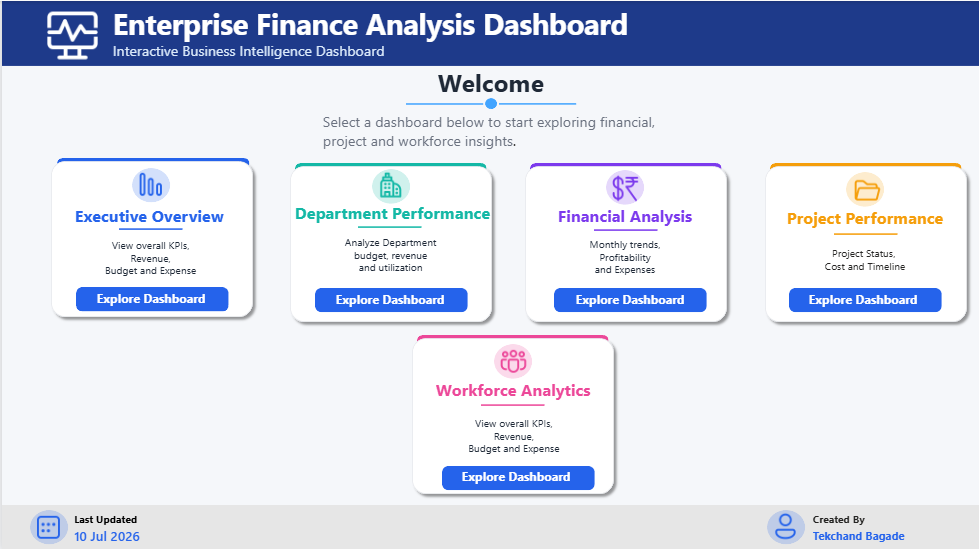

Layout of this report page (visuals, bound fields, positions):
{"tool":"powerbi","page":{"name":"MAIN PAGE","canvas":[1280,720],"ordinal":0},"visuals":[{"type":"textbox","box":[140.7,46.7,491.1,36.7],"z":0,"group":"g1"},{"type":"shape","box":[528.2,123.8,101.4,20.9],"z":0,"group":"g2"},{"type":"shape","box":[72.1,206.3,252.1,14.7],"z":0,"group":"g7"},{"type":"shape","box":[383.2,213.1,251,14.4],"z":0,"group":"g6"},{"type":"shape","box":[691.3,213.1,251,14.4],"z":0,"group":"g5"},{"type":"shape","box":[1005.1,213.1,251,14.4],"z":0,"group":"g4"},{"type":"shape","box":[544.4,437.1,251,14.4],"z":0,"group":"g3"},{"type":"shape","box":[0,660,1280,60],"z":0},{"type":"textbox","box":[1056.2,663.8,93.8,31.2],"z":0,"group":"g8"},{"type":"shape","box":[0,0,1280.2,85],"z":1000},{"type":"textbox","box":[140.7,0,834.4,70],"z":1000,"group":"g1"},{"type":"shape","box":[631.4,127,15.9,14.5],"z":1000,"group":"g2"},{"type":"shape","box":[368.8,208.7,280,220],"z":1000,"group":"g6"},{"type":"shape","box":[676.9,208.7,280,220],"z":1000,"group":"g5"},{"type":"shape","box":[990.6,208.7,280,220],"z":1000,"group":"g4"},{"type":"shape","box":[529.4,432.7,280,220],"z":1000,"group":"g3"},{"type":"textbox","box":[1056.2,685,131.2,31.2],"z":1000,"group":"g8"},{"type":"textbox","box":[0,0,758.3,56.7],"z":2000},{"type":"shape","box":[649.6,124,101.3,20.7],"z":2000,"group":"g2"},{"type":"shape","box":[56.7,201.7,280,220],"z":2000,"group":"g7"},{"type":"image","box":[476.7,222.3,64.4,40],"z":2000,"group":"g6"},{"type":"image","box":[784.4,225.6,64.4,40],"z":2000,"group":"g5"},{"type":"image","box":[1100,227.8,64.4,40],"z":2000,"group":"g4"},{"type":"image","box":[637.8,451.1,64.4,40],"z":2000,"group":"g3"},{"type":"textbox","box":[565,78.3,150,58.3],"z":3000},{"type":"shape","box":[1105,224.3,50,45.6],"z":3000,"group":"g4"},{"type":"textbox","box":[377.8,258.9,270,44.4],"z":3000,"group":"g6"},{"type":"textbox","box":[723.3,262.3,186.7,42.2],"z":3000,"group":"g5"},{"type":"textbox","box":[563.2,488.4,213.3,41.7],"z":3000,"group":"g3"},{"type":"textbox","box":[415,140,448.3,63.3],"z":4000},{"type":"image","box":[163.4,220,63,40],"z":4000,"group":"g7"},{"type":"shape","box":[483.4,220,50,45.6],"z":4000,"group":"g6"},{"type":"shape","box":[791.1,222.3,50,45.6],"z":4000,"group":"g5"},{"type":"textbox","box":[1021.7,265.6,216.7,42.2],"z":4000,"group":"g4"},{"type":"shape","box":[644.4,448.9,50,45.6],"z":4000,"group":"g3"},{"type":"group","id":"g1","title":"Group 1","box":[140.7,0,834.4,83.3],"z":5000},{"type":"shape","box":[465.6,290,83.3,13.3],"z":5000,"group":"g6"},{"type":"shape","box":[774.4,293.4,83.3,13.3],"z":5000,"group":"g5"},{"type":"shape","box":[1088.4,298.9,83.3,13.3],"z":5000,"group":"g4"},{"type":"shape","box":[627.8,522.3,83.3,13.3],"z":5000,"group":"g3"},{"type":"group","id":"g2","title":"Group 2","box":[528.2,123.8,222.7,20.9],"z":6000},{"type":"textbox","box":[91.1,262.3,206.7,42.2],"z":6000,"group":"g7"},{"type":"textbox","box":[440,302.3,137.8,63.3],"z":6000,"group":"g6"},{"type":"textbox","box":[746.7,304.5,138.9,63.3],"z":6000,"group":"g5"},{"type":"shape","box":[1030,376.7,200,31.7],"z":6000,"group":"g4"},{"type":"textbox","box":[595.5,537.8,148.9,63.3],"z":6000,"group":"g3"},{"type":"textbox","box":[1046.1,315.6,167.8,45.6],"z":7000,"group":"g4"},{"type":"shape","box":[408.8,376.7,200,31.7],"z":7000,"group":"g6"},{"type":"shape","box":[723.3,376.7,200,31.7],"z":7000,"group":"g5"},{"type":"group","id":"g3","title":"Block 5","box":[529.4,432.7,280,220],"z":7000},{"type":"shape","box":[576.1,607.7,200,31.7],"z":7000,"group":"g3"},{"type":"group","id":"g4","title":"Block 4","box":[990.6,208.7,280,220],"z":8000},{"type":"shape","box":[170.4,218.4,50,45],"z":8000,"group":"g7"},{"type":"textbox","box":[432.1,375,158.3,35],"z":8000,"group":"g6"},{"type":"textbox","box":[746.7,375,158.3,35],"z":8000,"group":"g5"},{"type":"textbox","box":[1050.9,375,158.3,35],"z":8000,"group":"g4"},{"type":"textbox","box":[597.7,606,158.3,35],"z":8000,"group":"g3"},{"type":"group","id":"g5","title":"Block 3","box":[676.9,208.7,280,220],"z":9000},{"type":"shape","box":[153.4,292.3,83.3,13.3],"z":10000,"group":"g7"},{"type":"shape","box":[36.7,666.7,50,45],"z":10000},{"type":"group","id":"g6","title":"Block 2","box":[368.8,208.7,280,220],"z":11000},{"type":"group","id":"g7","title":"Group 3","box":[56.7,201.7,280,220],"z":12000},{"type":"textbox","box":[125.6,304.5,137.8,63.3],"z":12000,"group":"g7"},{"type":"shape","box":[96.7,374.5,200,32.2],"z":13000,"group":"g7"},{"type":"cardVisual","fields":{"Data":["All_Measures.Last Updated"]},"box":[65,660,153.3,60],"z":13000},{"type":"textbox","box":[120,373.4,158.9,34.4],"z":14000,"group":"g7"},{"type":"shape","box":[1001.7,666.7,50,45],"z":14000},{"type":"group","id":"g8","title":"Group 4","box":[1056.2,663.8,131.2,52.5],"z":15000},{"type":"image","box":[46.2,3.8,92.5,78.8],"z":16000},{"type":"image","box":[993.8,667.5,63.8,40],"z":17000},{"type":"image","box":[28.8,668.8,63.8,40],"z":18000}]}

Visuals, with their boxes in screenshot pixels (x1, y1, x2, y2), scaled from the page's 1280x720 canvas onto the 979x549 screenshot:
textbox: l=108, t=36, r=483, b=64
shape: l=404, t=94, r=482, b=110
shape: l=55, t=157, r=248, b=169
shape: l=293, t=162, r=485, b=173
shape: l=529, t=162, r=721, b=173
shape: l=769, t=162, r=961, b=173
shape: l=416, t=333, r=608, b=344
shape: l=0, t=503, r=978, b=548
textbox: l=808, t=506, r=880, b=530
shape: l=0, t=0, r=978, b=65
textbox: l=108, t=0, r=746, b=53
shape: l=483, t=97, r=495, b=108
shape: l=282, t=159, r=496, b=327
shape: l=518, t=159, r=732, b=327
shape: l=758, t=159, r=972, b=327
shape: l=405, t=330, r=619, b=498
textbox: l=808, t=522, r=908, b=546
textbox: l=0, t=0, r=580, b=43
shape: l=497, t=95, r=574, b=110
shape: l=43, t=154, r=258, b=322
image: l=365, t=170, r=414, b=200
image: l=600, t=172, r=649, b=203
image: l=841, t=174, r=891, b=204
image: l=488, t=344, r=537, b=374
textbox: l=432, t=60, r=547, b=104
shape: l=845, t=171, r=883, b=206
textbox: l=289, t=197, r=495, b=231
textbox: l=553, t=200, r=696, b=232
textbox: l=431, t=372, r=594, b=404
textbox: l=317, t=107, r=660, b=155
image: l=125, t=168, r=173, b=198
shape: l=370, t=168, r=408, b=203
shape: l=605, t=170, r=643, b=204
textbox: l=781, t=203, r=947, b=235
shape: l=493, t=342, r=531, b=377
"Group 1" group: l=108, t=0, r=746, b=64
shape: l=356, t=221, r=420, b=231
shape: l=592, t=224, r=656, b=234
shape: l=832, t=228, r=896, b=238
shape: l=480, t=398, r=544, b=408
"Group 2" group: l=404, t=94, r=574, b=110
textbox: l=70, t=200, r=228, b=232
textbox: l=337, t=231, r=442, b=279
textbox: l=571, t=232, r=677, b=280
shape: l=788, t=287, r=941, b=311
textbox: l=455, t=410, r=569, b=458
textbox: l=800, t=241, r=928, b=275
shape: l=313, t=287, r=466, b=311
shape: l=553, t=287, r=706, b=311
"Block 5" group: l=405, t=330, r=619, b=498
shape: l=441, t=463, r=594, b=488
"Block 4" group: l=758, t=159, r=972, b=327
shape: l=130, t=167, r=169, b=201
textbox: l=330, t=286, r=452, b=313
textbox: l=571, t=286, r=692, b=313
textbox: l=804, t=286, r=925, b=313
textbox: l=457, t=462, r=578, b=489
"Block 3" group: l=518, t=159, r=732, b=327
shape: l=117, t=223, r=181, b=233
shape: l=28, t=508, r=66, b=543
"Block 2" group: l=282, t=159, r=496, b=327
"Group 3" group: l=43, t=154, r=258, b=322
textbox: l=96, t=232, r=201, b=280
shape: l=74, t=286, r=227, b=310
cardVisual - All_Measures.Last Updated: l=50, t=503, r=167, b=548
textbox: l=92, t=285, r=213, b=311
shape: l=766, t=508, r=804, b=543
"Group 4" group: l=808, t=506, r=908, b=546
image: l=35, t=3, r=106, b=63
image: l=760, t=509, r=809, b=539
image: l=22, t=510, r=71, b=540
